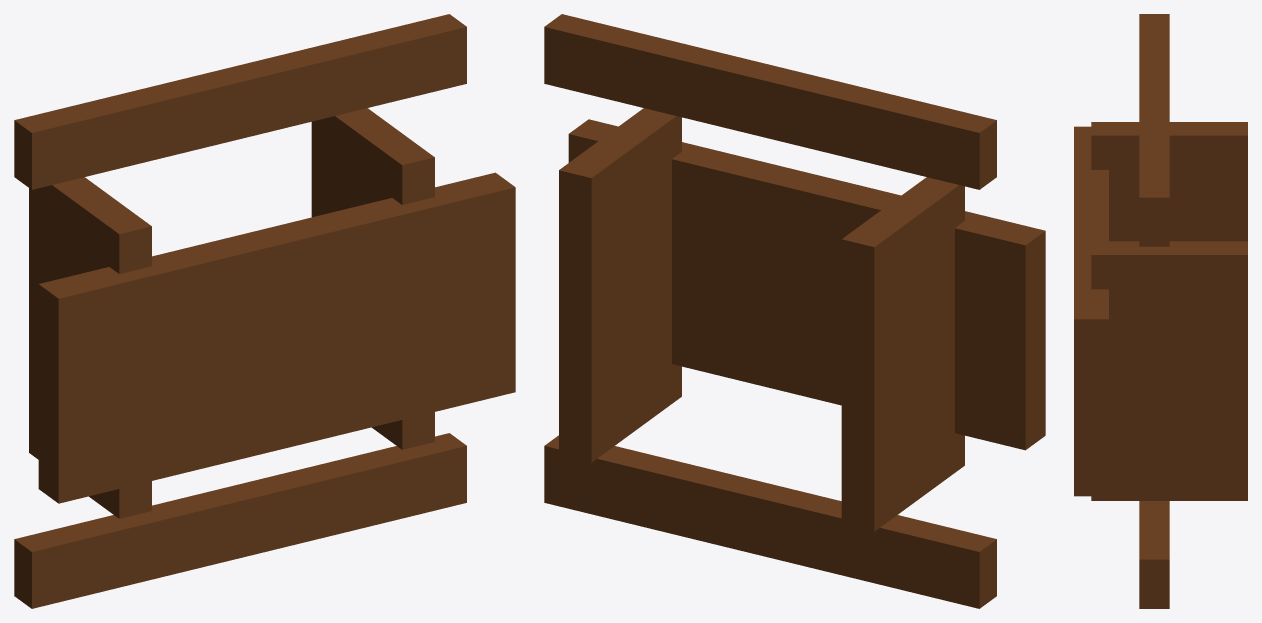
File: SM_ShPicnicTable.obj
3 views of the same model, side by side, from view 1: azimuth 30°, elevation 25°; view 2: azimuth 150°, elevation 25°; view 3: azimuth 270°, elevation 25° (orthographic). The views are drawn at different scales.
Bounding box in the file's own units: 210 × 209 × 80.
